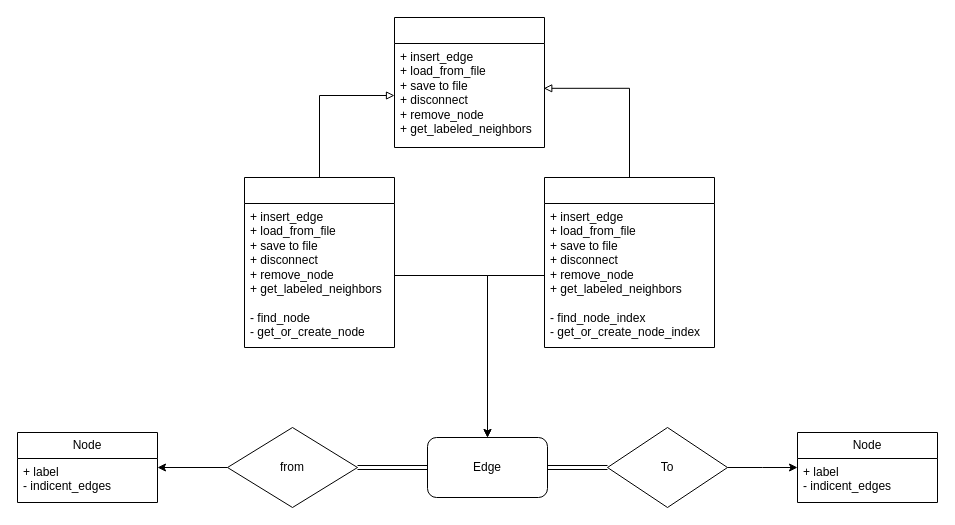
Some shapes in this 955 by 525 pixel diagram are drawn without their labels. Each missing label, with the box of its shape:
Graph: (394, 16, 544, 148)
ListGraph: (244, 176, 394, 348)
MatrixGraph: (544, 176, 714, 348)
